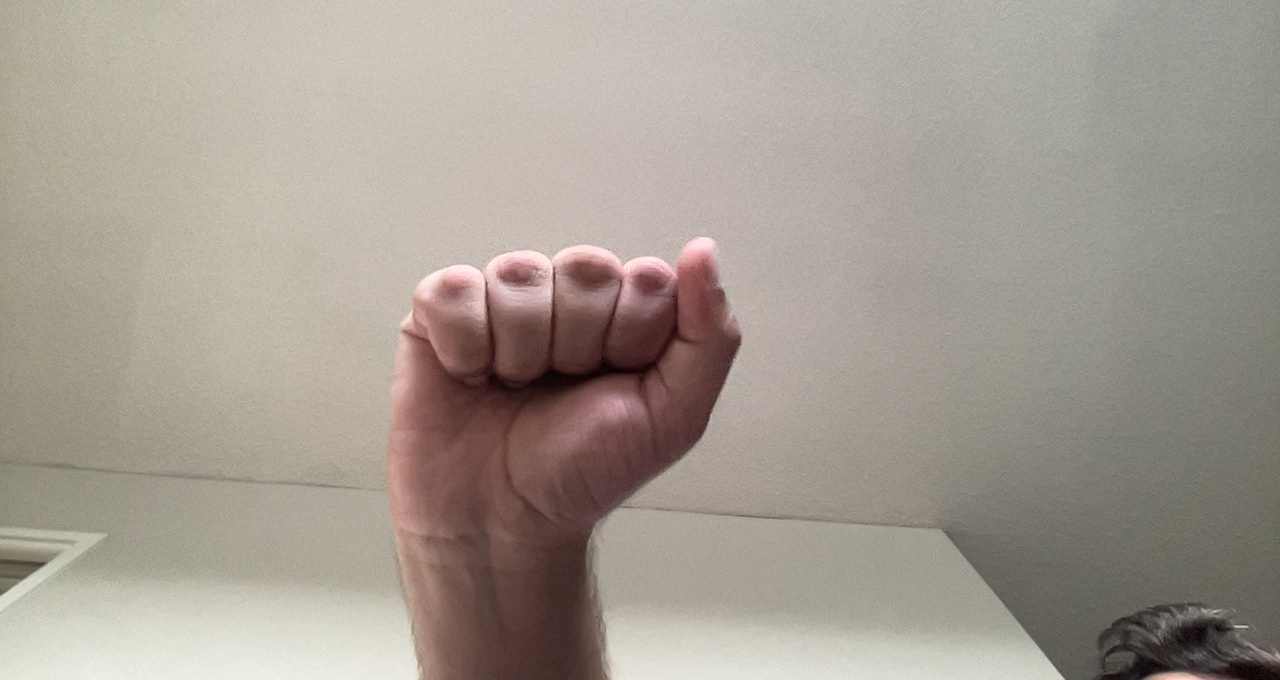closedfist: (381, 228, 748, 576)
